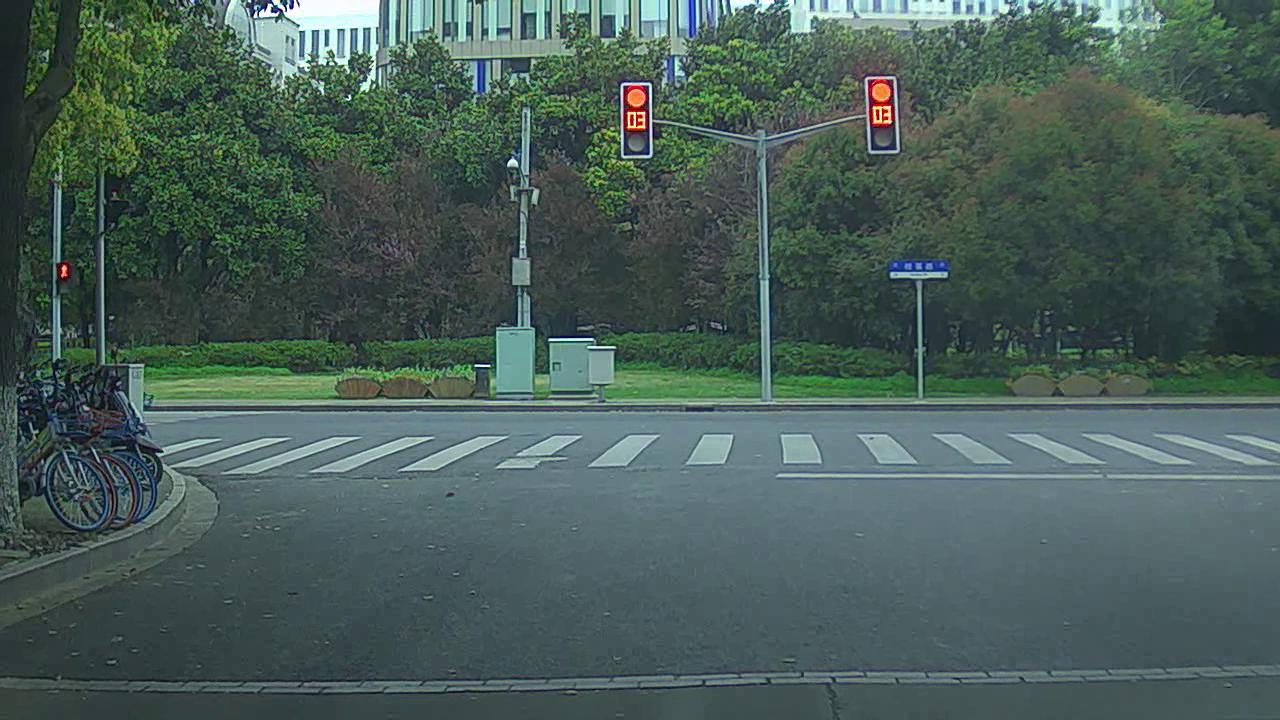traffic_light: (617, 84, 653, 157), (868, 74, 896, 154)
